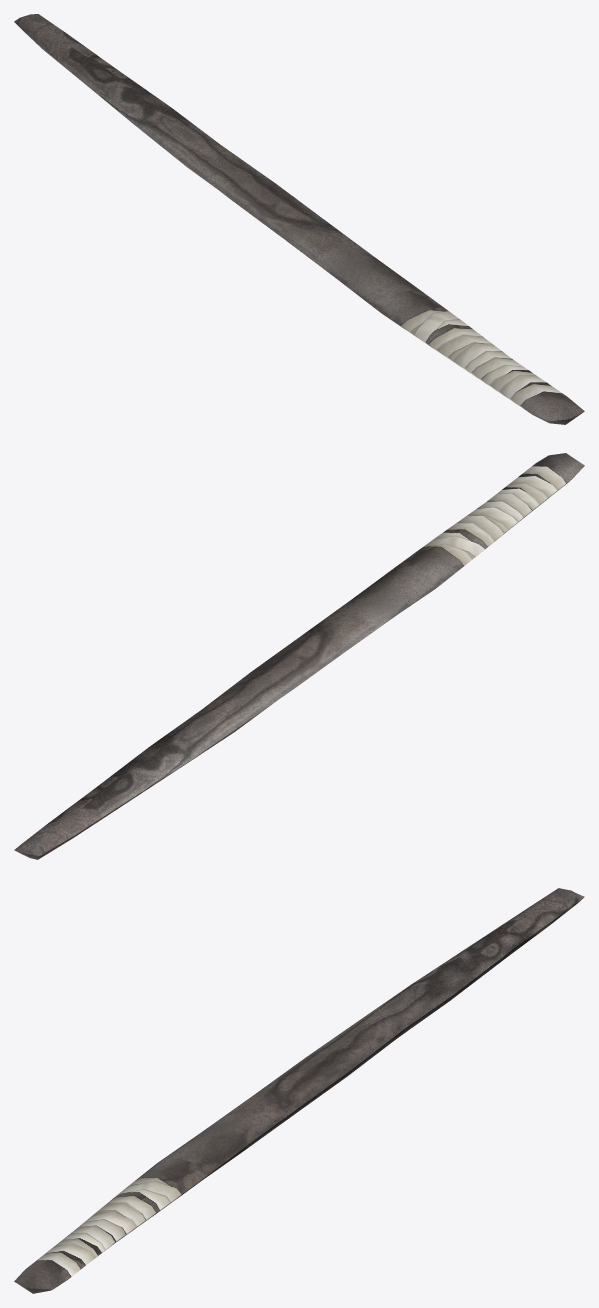
File: sword_metal_stick_metal_stick_titan.glb
3 renders of one model, top to bottom at view 1: azimuth 30°, elevation 25°; view 2: azimuth 150°, elevation 25°; view 3: azimuth 330°, elevation 25°, orthographic.
Bounding box in the file's own units: 0.0594 × 0.0258 × 1.06.
Materials: 1 (1 with a texture image).
